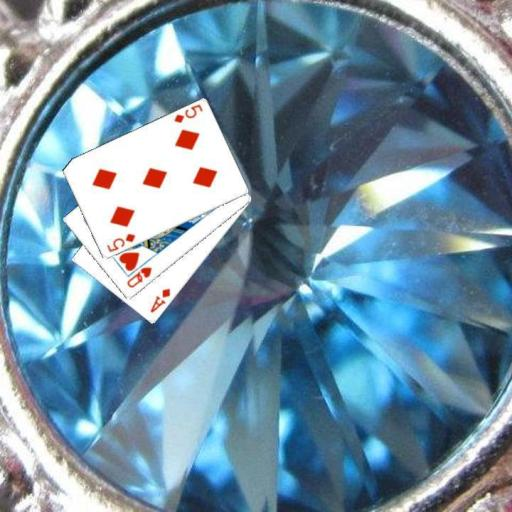card-corner: (103, 230, 137, 254), (171, 101, 204, 124), (124, 264, 154, 289), (147, 285, 172, 314)
